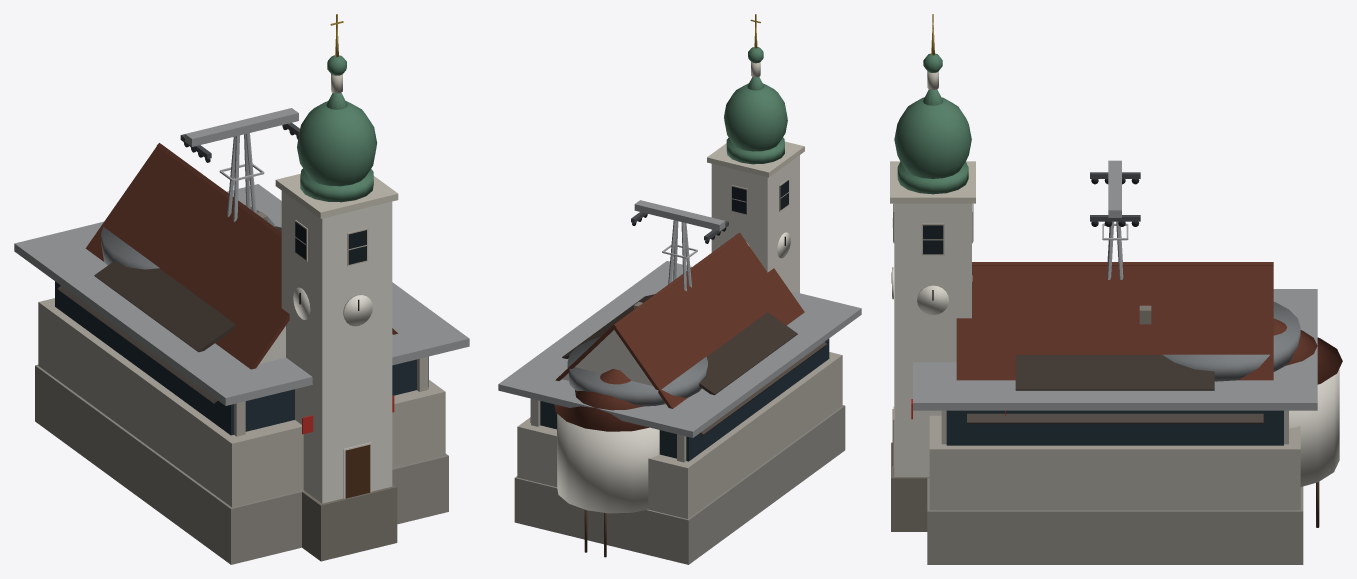
File: props.glb
The picture shows the model from 3 angles, left to right: view 1: azimuth 30°, elevation 25°; view 2: azimuth 150°, elevation 25°; view 3: azimuth 270°, elevation 25°; orthographic projection. The views are drawn at different scales.
Visible parts, largest first — view 1: station, church, chalet_tall, pylon, barn; view 2: station, church, chalet_tall, pylon, barn; view 3: station, church, chalet_tall, barn, pylon.
Boxes of the visible parts, box(x1,y1,x2,y2) form: station: box(14, 184, 469, 564); church: box(85, 14, 398, 561); chalet_tall: box(94, 212, 281, 352); pylon: box(180, 108, 299, 221); barn: box(57, 285, 217, 403); station: box(498, 261, 861, 564); church: box(554, 14, 804, 513); chalet_tall: box(562, 294, 797, 395); pylon: box(631, 200, 728, 290); barn: box(699, 342, 826, 436); station: box(911, 289, 1317, 564); church: box(890, 14, 1342, 531); chalet_tall: box(1015, 305, 1214, 390); barn: box(967, 413, 1263, 424); pylon: box(1090, 160, 1140, 279).
Size of the model in its own units: 16 by 34 by 26.85.
